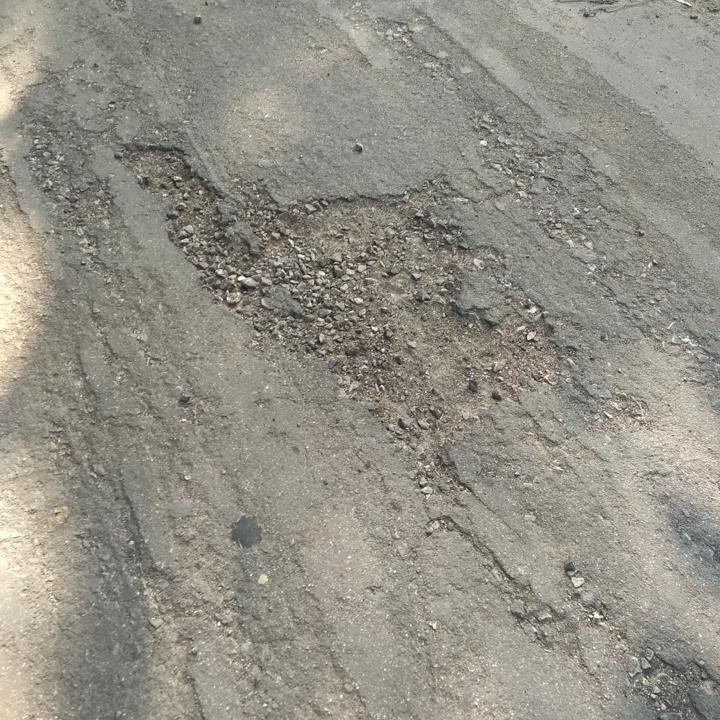pothole: (208, 167, 577, 475), (115, 139, 229, 304)
